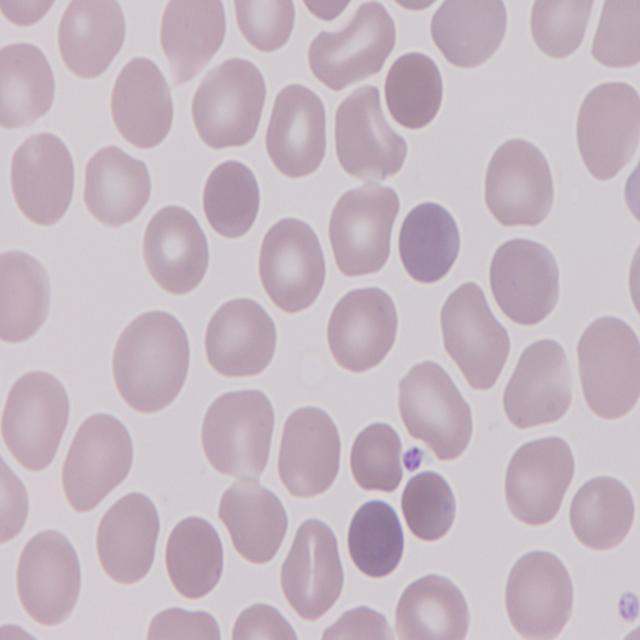RBC: (109, 303, 192, 417), (189, 54, 269, 156), (198, 380, 278, 482), (395, 360, 475, 460), (439, 285, 514, 389), (326, 183, 400, 285), (61, 412, 138, 510), (255, 214, 328, 316), (2, 367, 72, 473), (278, 514, 348, 620), (486, 233, 564, 328), (500, 430, 574, 530), (500, 336, 578, 430), (482, 134, 559, 229), (13, 526, 84, 628), (5, 132, 80, 228), (92, 487, 164, 587), (200, 293, 278, 383), (572, 79, 640, 182), (262, 82, 331, 182), (324, 284, 398, 377), (142, 206, 214, 300), (576, 316, 640, 421), (108, 56, 176, 154), (276, 406, 344, 504), (503, 548, 575, 640), (222, 477, 292, 569), (80, 140, 152, 228), (54, 0, 128, 82), (163, 512, 227, 604), (430, 0, 513, 70), (0, 248, 55, 350), (566, 474, 636, 554), (0, 36, 57, 130), (160, 0, 229, 77), (392, 574, 472, 640), (348, 418, 406, 494), (527, 2, 593, 63), (229, 1, 301, 56), (591, 0, 640, 72), (224, 604, 302, 640), (0, 454, 31, 544), (321, 606, 398, 640), (142, 609, 226, 640), (0, 0, 63, 29), (295, 0, 363, 23)
Spherocyte: (394, 196, 462, 282), (382, 47, 446, 132), (348, 494, 410, 580), (203, 156, 263, 243), (399, 468, 458, 546)
